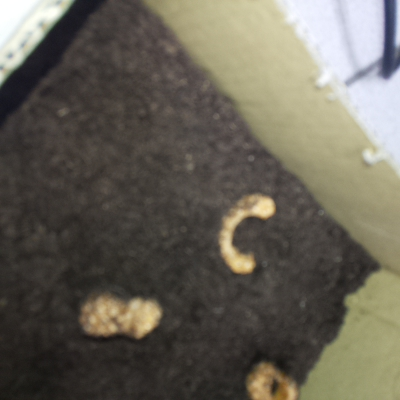eggs: (214, 189, 280, 281), (73, 285, 166, 346), (236, 351, 303, 400)
